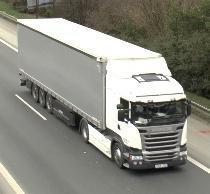Truck: (17, 19, 192, 174)
